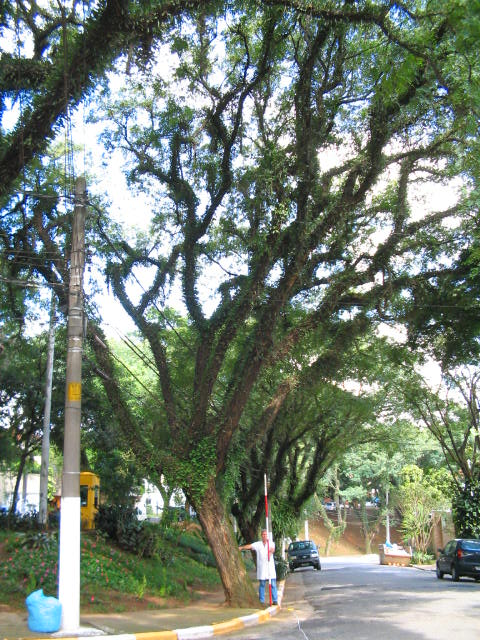stem: (177, 481, 259, 608)
stick: (261, 475, 278, 605)
tree: (4, 3, 480, 608)
